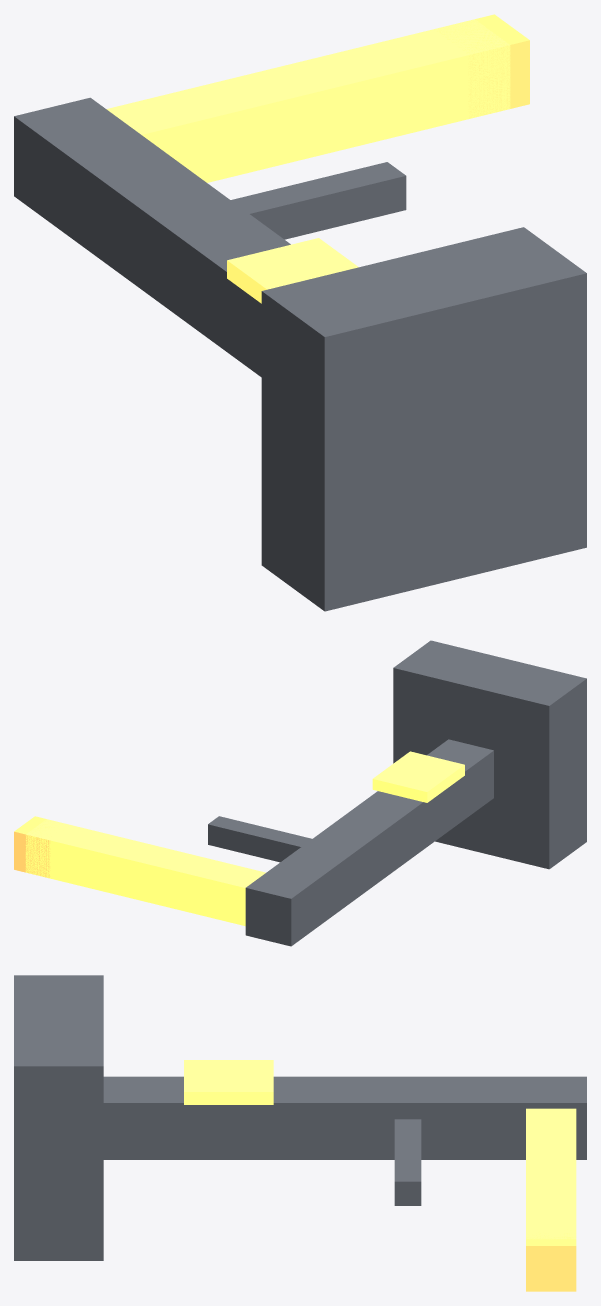
The model's file is interact_hazard_yard.glb.
3 renders of one model, top to bottom at view 1: azimuth 30°, elevation 25°; view 2: azimuth 150°, elevation 25°; view 3: azimuth 270°, elevation 25°, orthographic. The views are drawn at different scales.
Parts seen in each view (by area): view 1: interact_hazard_yard; view 2: interact_hazard_yard; view 3: interact_hazard_yard.
Boxes of the visible parts, x1,y1,x2,y2 form: interact_hazard_yard: (14, 14, 586, 611); interact_hazard_yard: (14, 640, 586, 946); interact_hazard_yard: (14, 975, 586, 1291).
Size of the model in its own units: 2.59 by 1.2 by 3.2.
